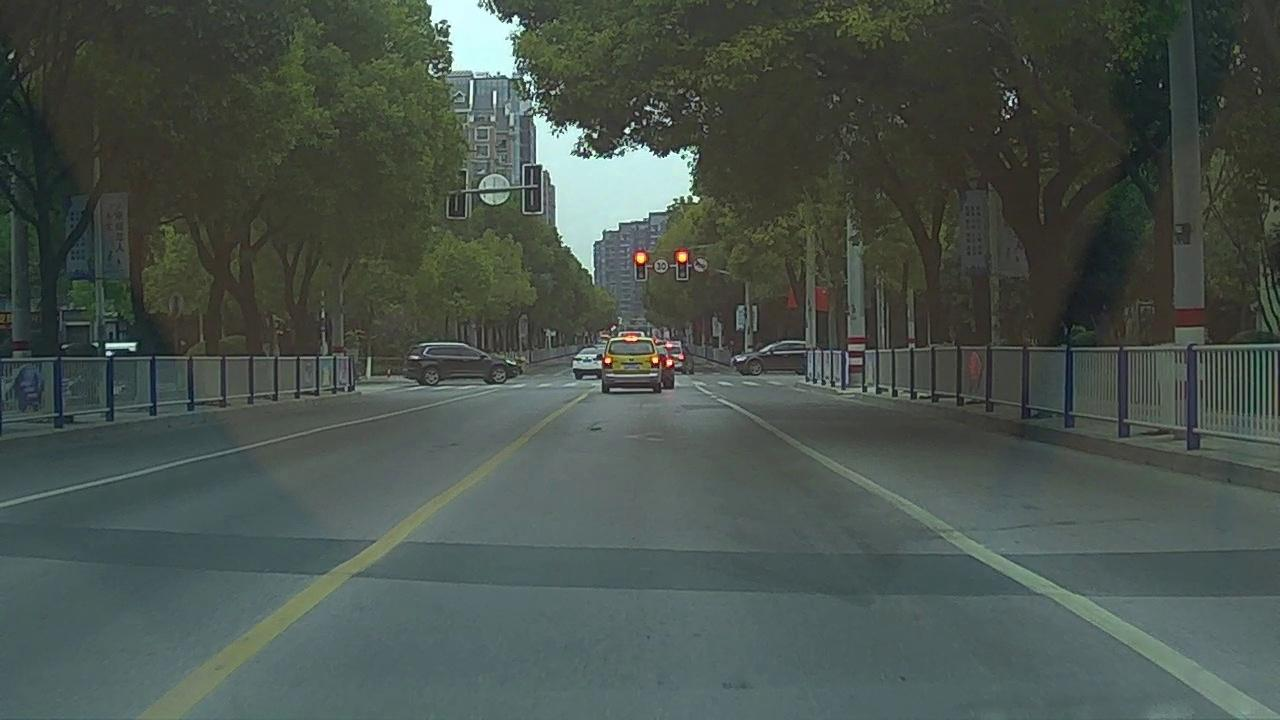traffic_light: (678, 251, 688, 281), (636, 250, 645, 279)
